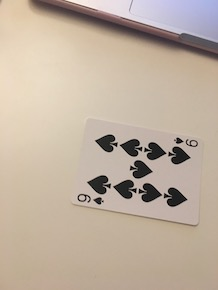NineOfSpades: (69, 115, 206, 228)
